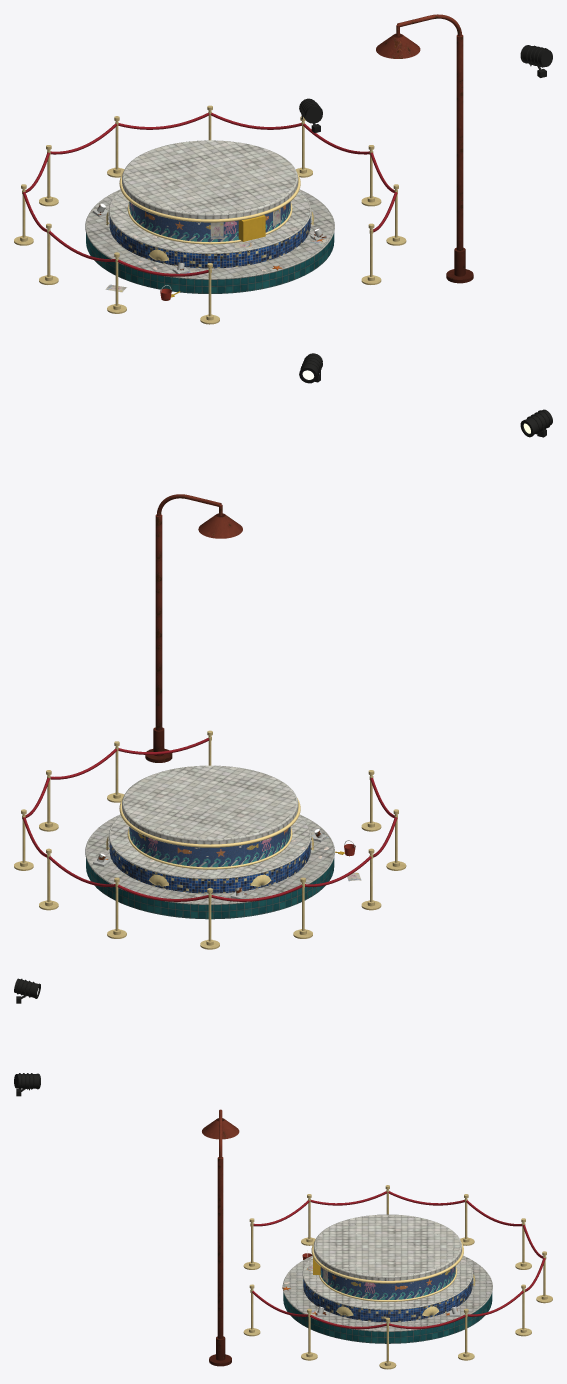
File: sala_monumento.glb
3 views of the same model, one above another, from view 1: azimuth 30°, elevation 25°; view 2: azimuth 150°, elevation 25°; view 3: azimuth 270°, elevation 25° (orthographic). The views are drawn at different scales.
Visible parts, largest first — view 1: amb_piedistallo, sala_monumento_cordone, amb_lampione, sala_monumento_fari, sala_monumento_offerte; view 2: amb_piedistallo, sala_monumento_cordone, amb_lampione, sala_monumento_fari; view 3: amb_piedistallo, sala_monumento_cordone, amb_lampione, sala_monumento_fari.
Boxes of the visible parts, x1=… form: amb_piedistallo: x1=85, y1=140, x2=334, y2=293; sala_monumento_cordone: x1=14, y1=105, x2=406, y2=324; amb_lampione: x1=376, y1=14, x2=473, y2=283; sala_monumento_fari: x1=299, y1=45, x2=552, y2=133; sala_monumento_offerte: x1=105, y1=208, x2=329, y2=300; amb_piedistallo: x1=85, y1=765, x2=334, y2=919; sala_monumento_cordone: x1=14, y1=730, x2=406, y2=949; amb_lampione: x1=145, y1=494, x2=242, y2=762; sala_monumento_fari: x1=299, y1=353, x2=552, y2=437; amb_piedistallo: x1=282, y1=1214, x2=492, y2=1343; sala_monumento_cordone: x1=243, y1=1185, x2=552, y2=1369; amb_lampione: x1=202, y1=1109, x2=239, y2=1366; sala_monumento_fari: x1=14, y1=978, x2=40, y2=1096.
Size of what is drawn, in the model's own units: 6.32 by 5.77 by 10.31.
Materials: 16 (12 with a texture image).
